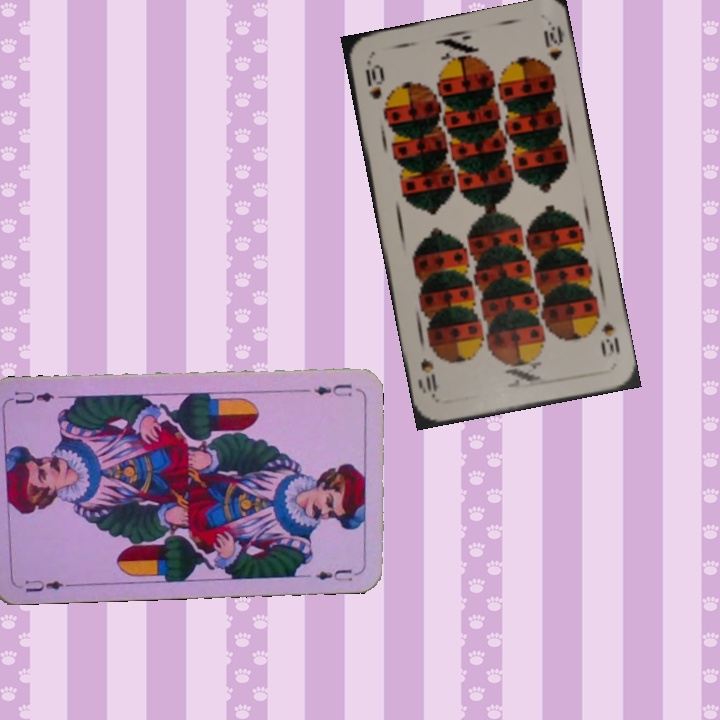EU: (21, 575, 73, 595), (310, 380, 355, 399)
S10: (596, 317, 623, 360), (361, 57, 384, 102)
